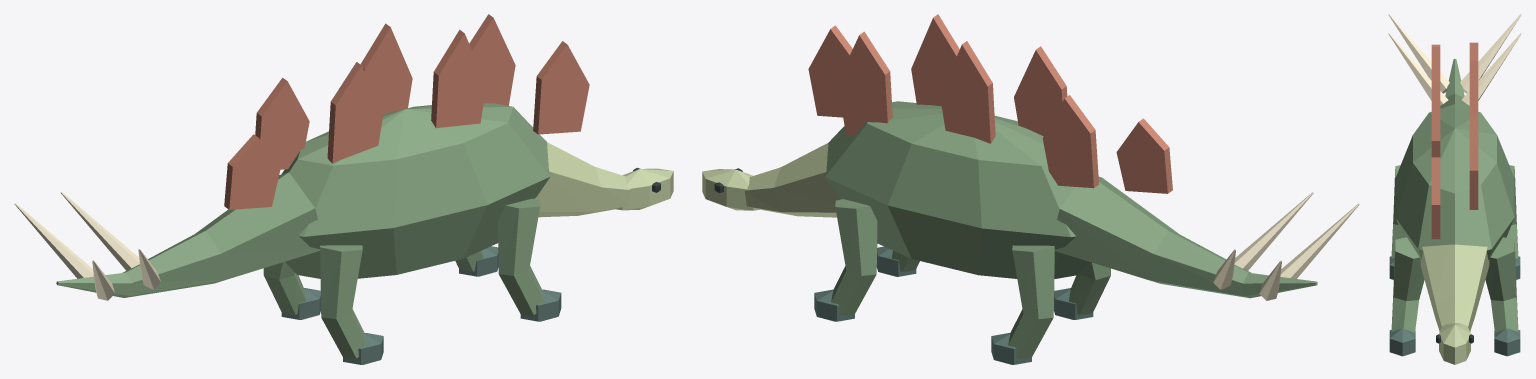
Rendered from stegosaurus.64952c936712.glb.
3 views of the same model, side by side, from view 1: azimuth 30°, elevation 25°; view 2: azimuth 150°, elevation 25°; view 3: azimuth 270°, elevation 25° (orthographic). The views are drawn at different scales.
Visible parts, largest first — view 1: stegosaurus; view 2: stegosaurus; view 3: stegosaurus.
Boxes of the visible parts, x1,y1,x2,y2 form: stegosaurus: [14, 14, 673, 364]; stegosaurus: [702, 14, 1359, 364]; stegosaurus: [1388, 14, 1521, 364].
Size of the model in its own units: 1 by 0.4508 by 0.2191.
